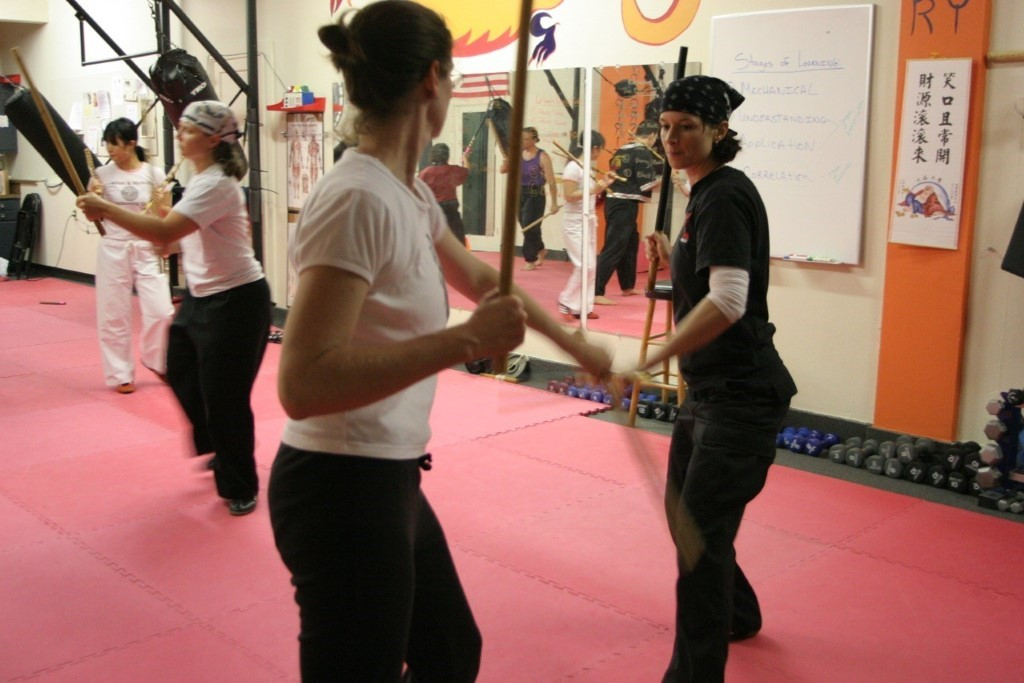baston_e: (10, 51, 103, 232), (607, 381, 691, 558), (493, 4, 533, 294), (644, 52, 689, 281), (556, 142, 609, 193), (556, 152, 625, 182), (141, 158, 180, 209), (626, 130, 663, 161), (465, 109, 489, 152), (523, 204, 560, 229)
baston_v: (641, 277, 663, 299), (491, 355, 511, 378), (676, 42, 691, 54), (98, 229, 110, 241), (9, 44, 19, 52), (83, 145, 91, 153), (551, 137, 557, 145), (622, 176, 629, 181), (625, 128, 630, 133)
